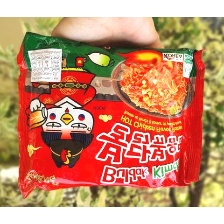snack: (7, 28, 211, 203)
